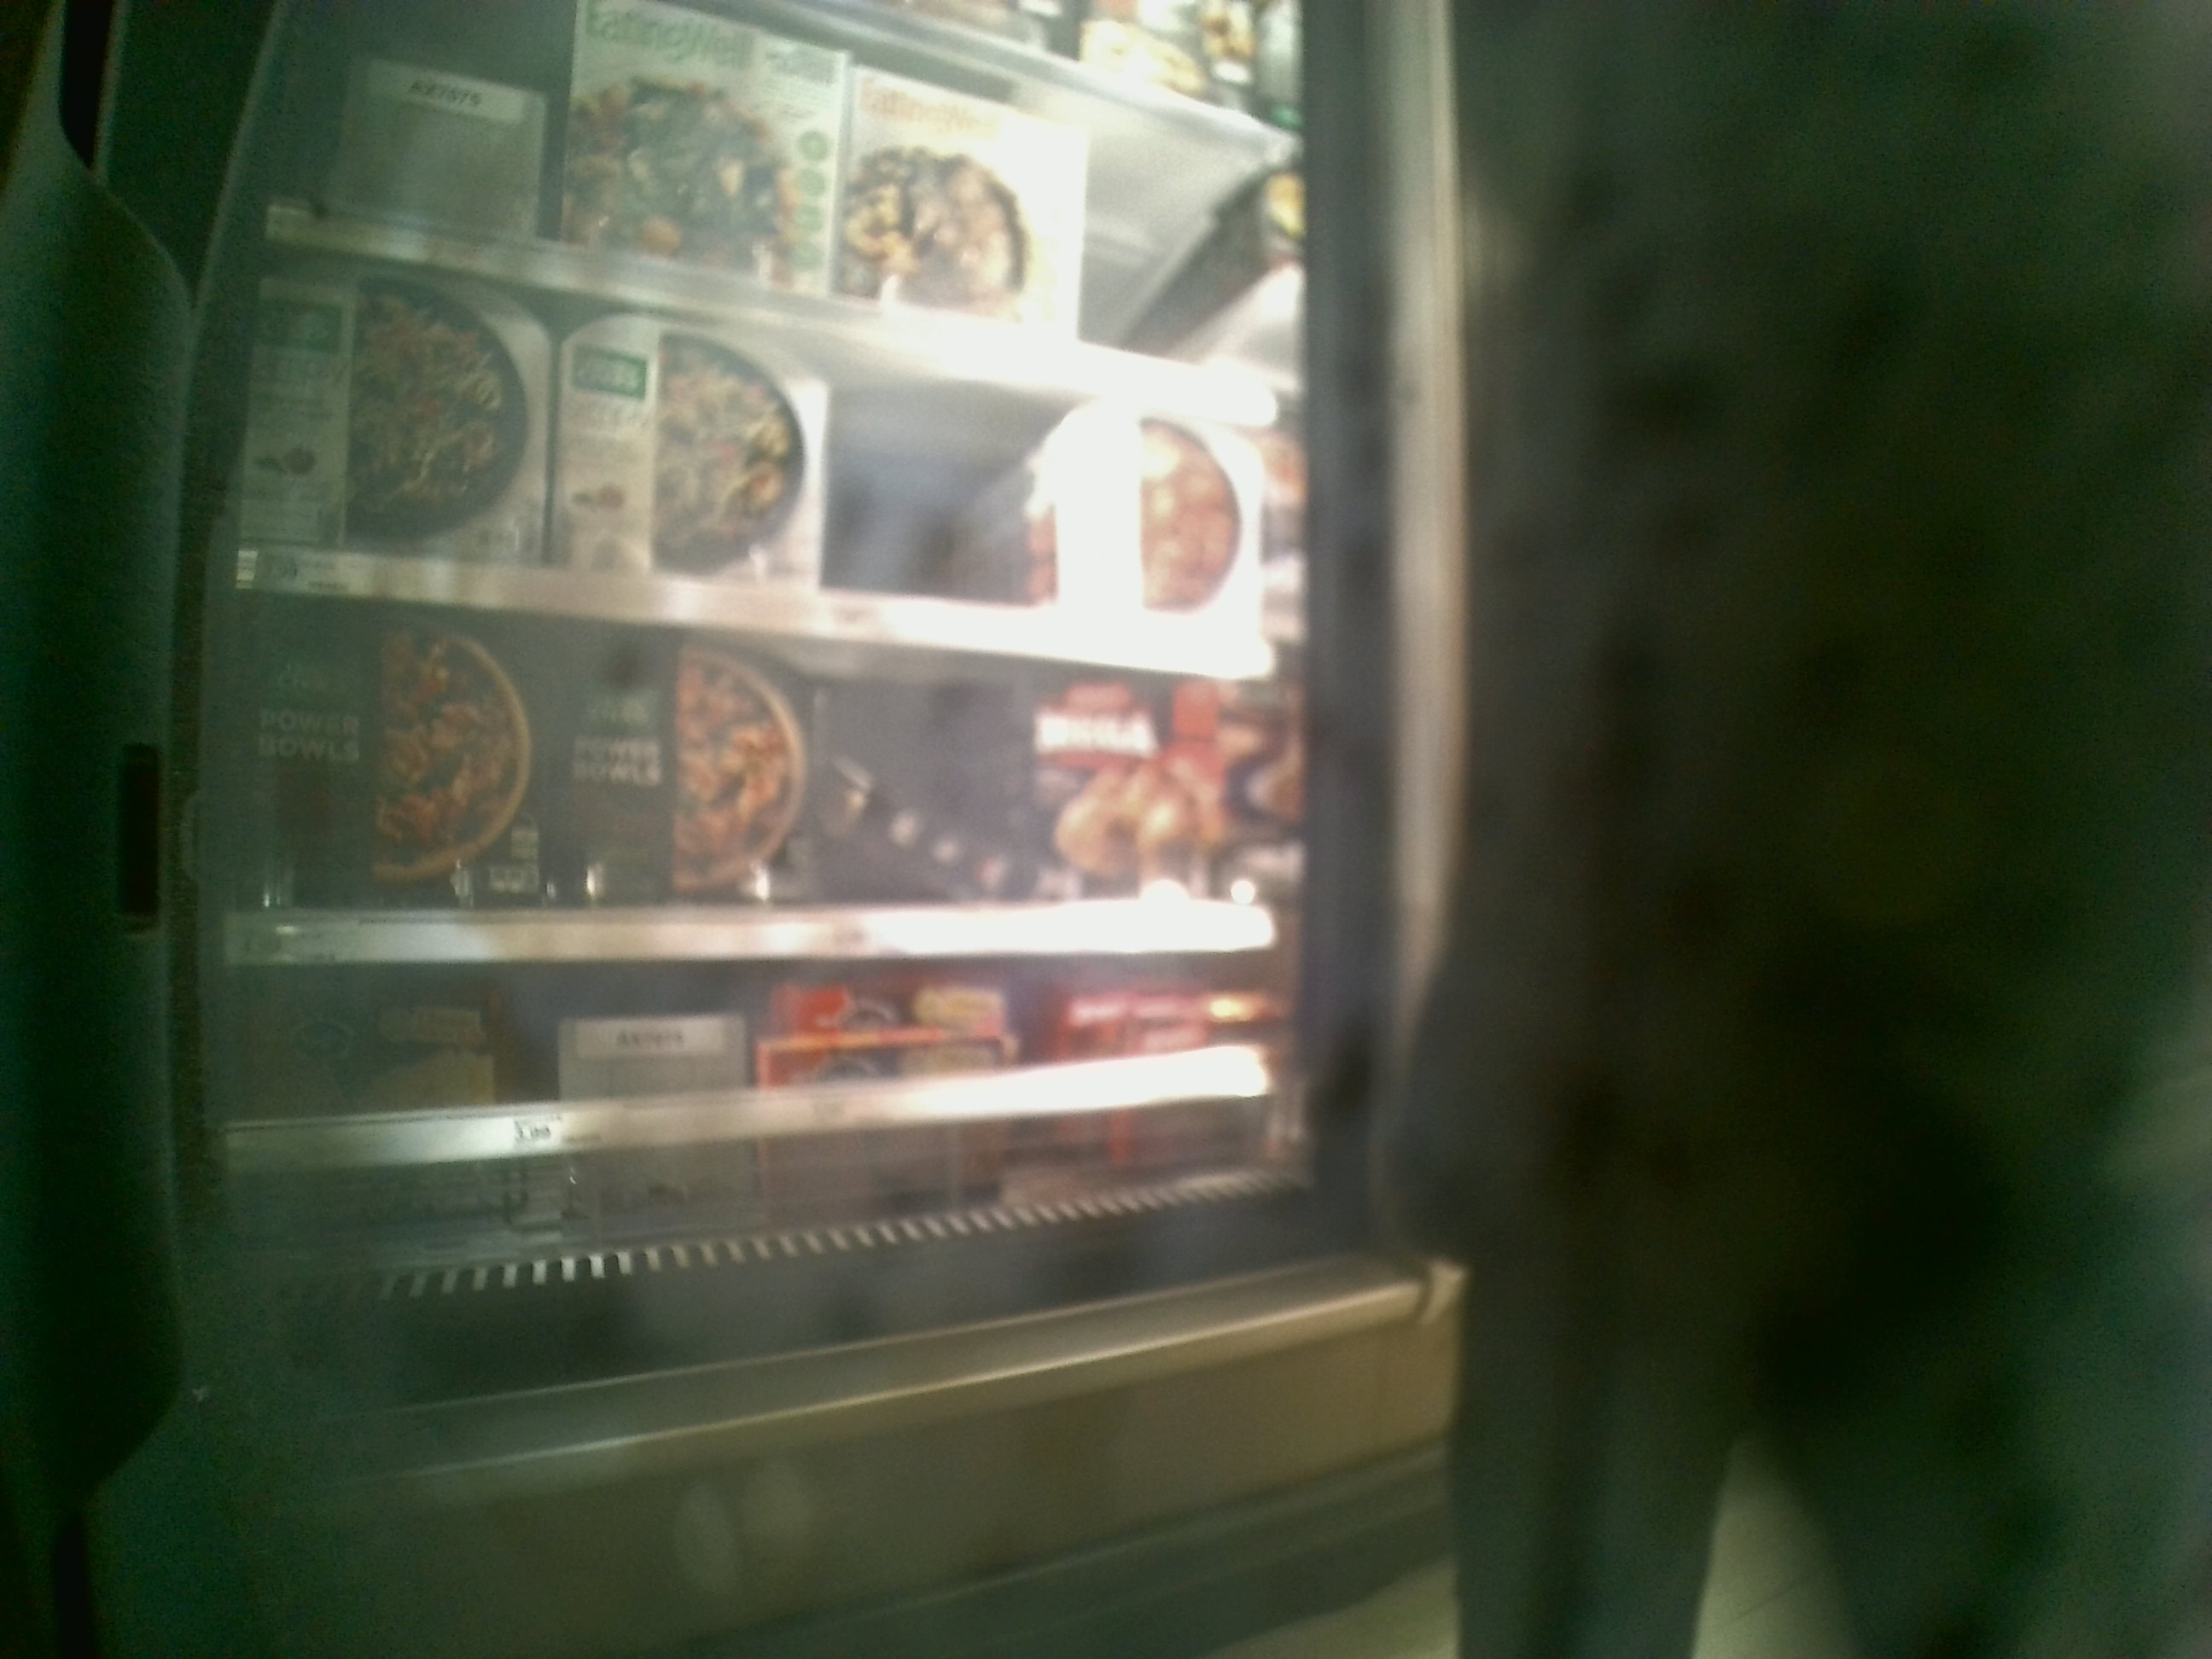shelf: (251, 235, 1292, 660), (239, 587, 1296, 962)
